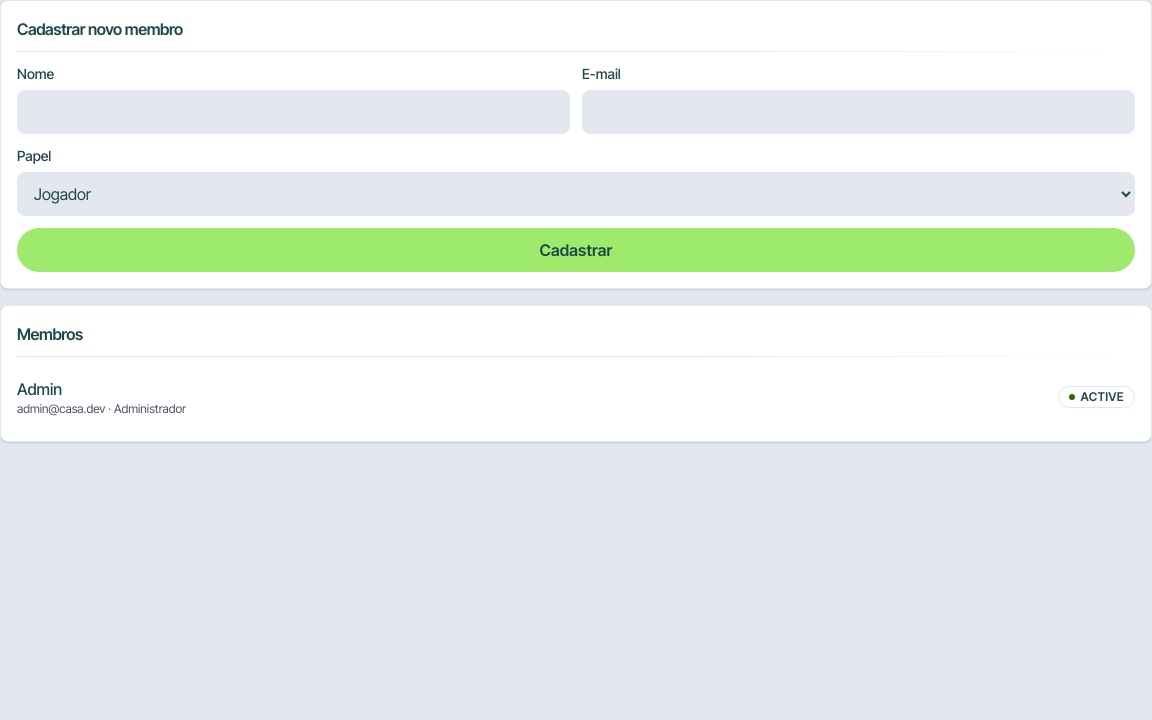
ClubMembersManager › cadastra um membro novo e mostra a senha temporária pra copiar
The image size is (1152, 720).
Expected: the text "Admin" is shown, 17,379 -> 62,399
In the field labelled "Nome": {"x": 294, "y": 112} 17,90 -> 570,134, type "Jogador Novo"
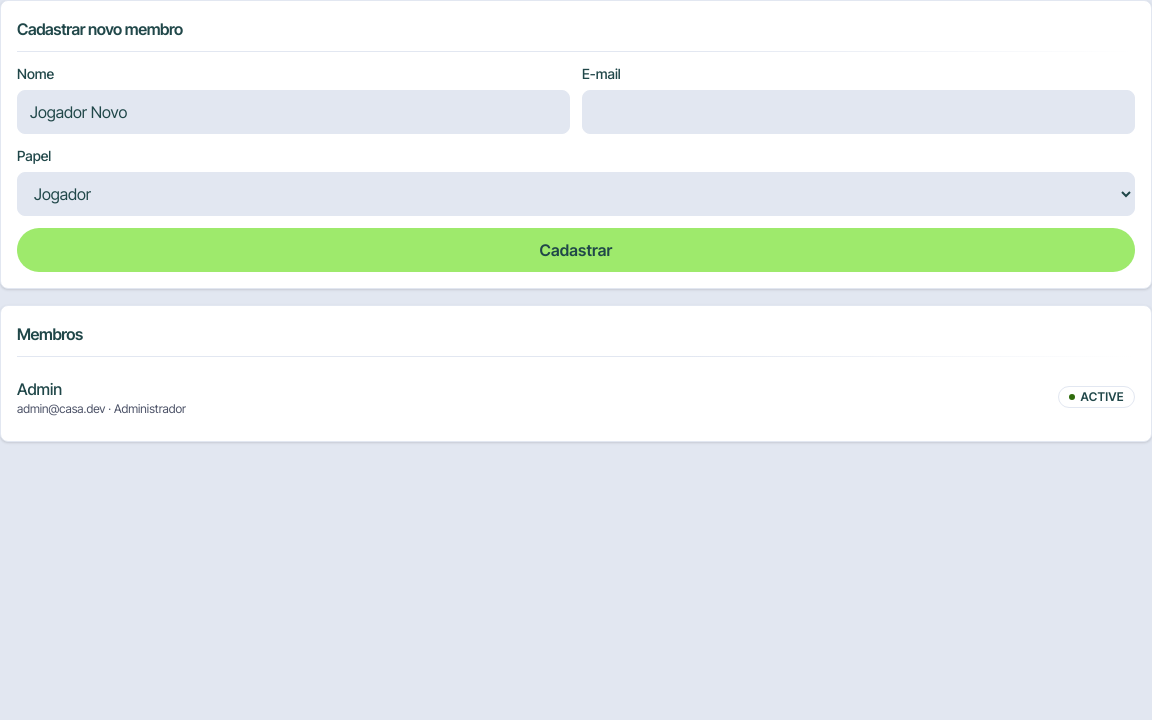
In the field labelled "E-mail": {"x": 858, "y": 112} 582,90 -> 1135,134, type "jogador@casa.dev"
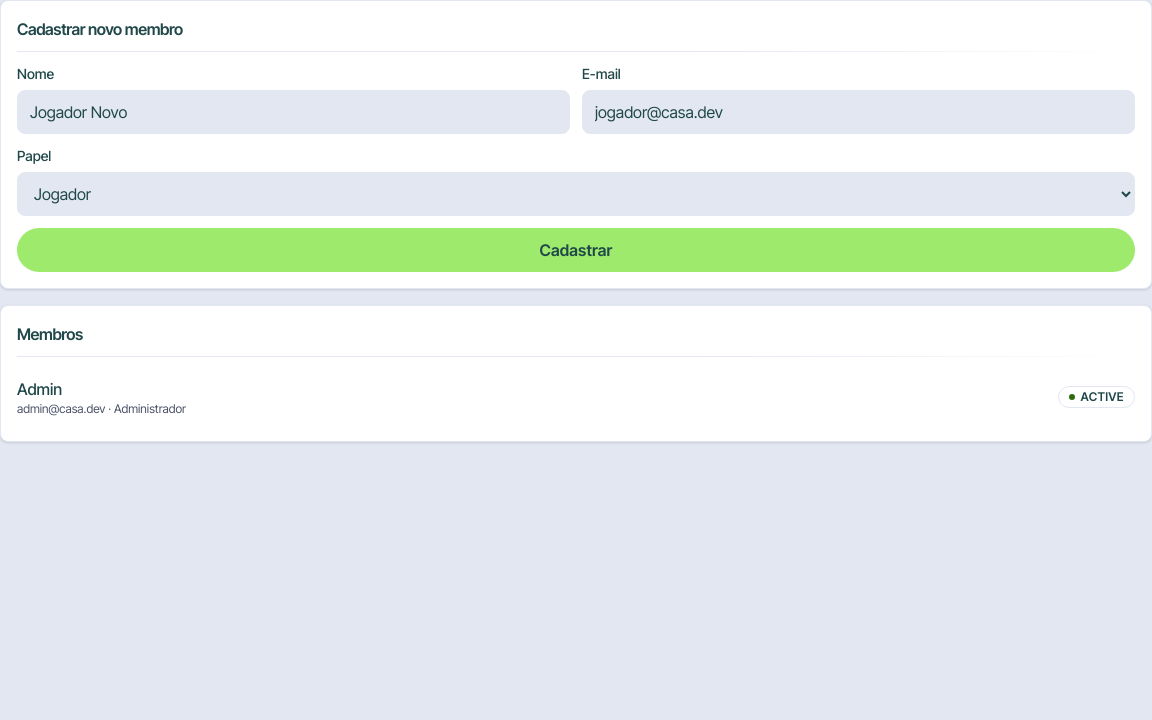
Click the button "Cadastrar": {"x": 576, "y": 250} 17,228 -> 1135,272
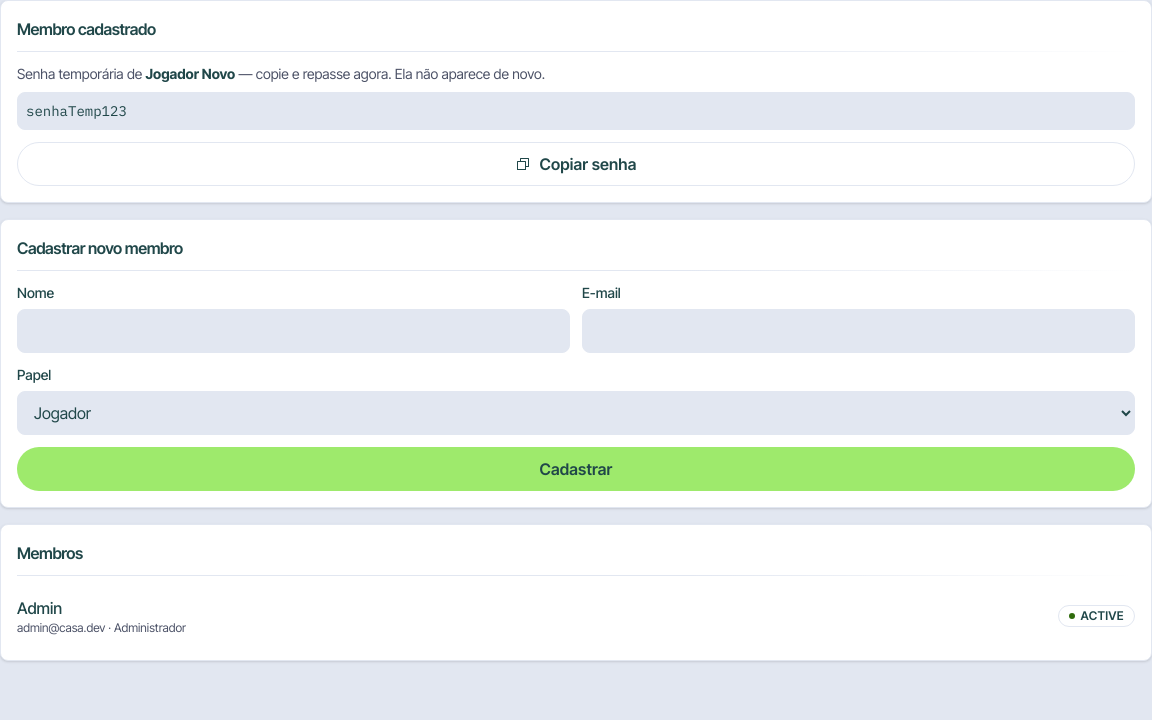
Result: the text "senhaTemp123" is shown at 17,92 -> 1135,130
Click the button "Copiar senha": {"x": 576, "y": 164} 17,142 -> 1135,186
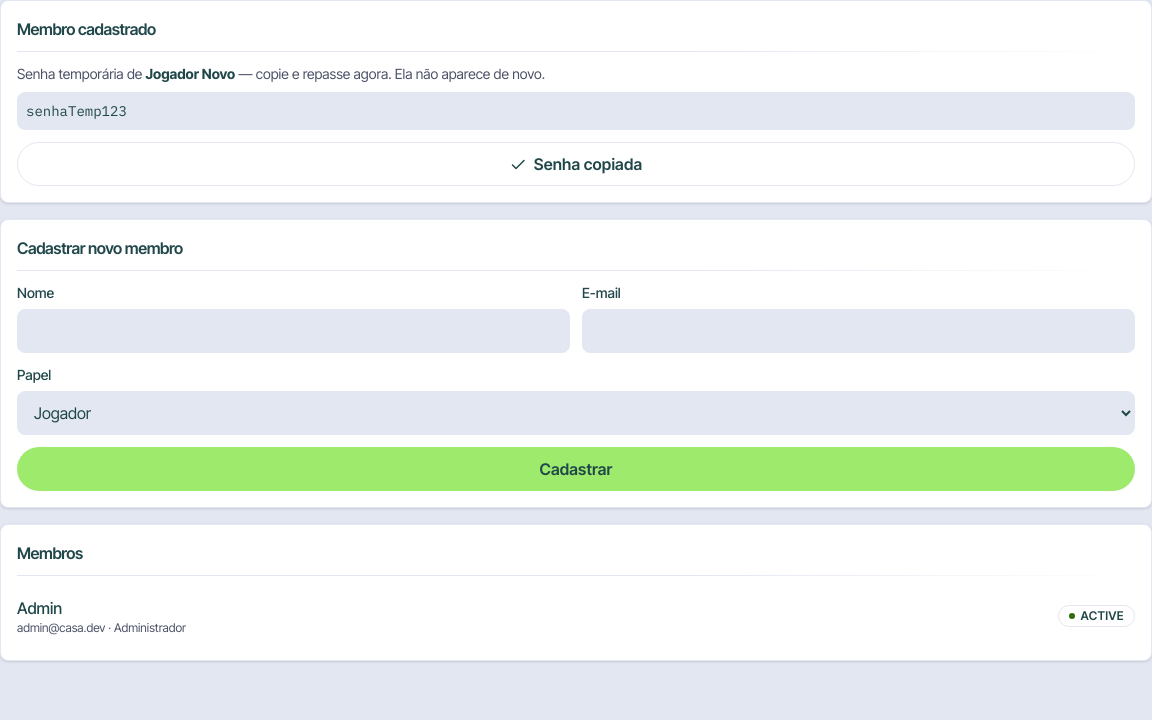
Result: the button "Senha copiada" is shown at 17,142 -> 1135,186
